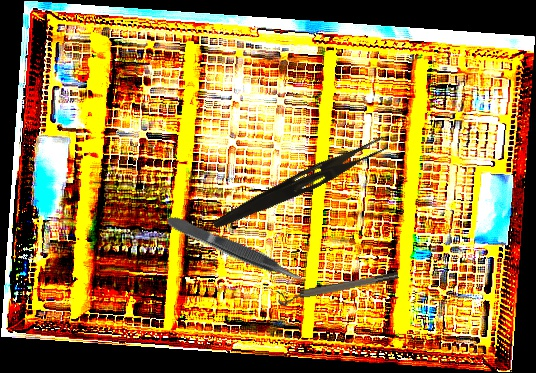Dressing Forceps: (210, 129, 390, 239)
Fixation Ring: (276, 269, 400, 308)
Tissue Forceps: (164, 210, 308, 290)
